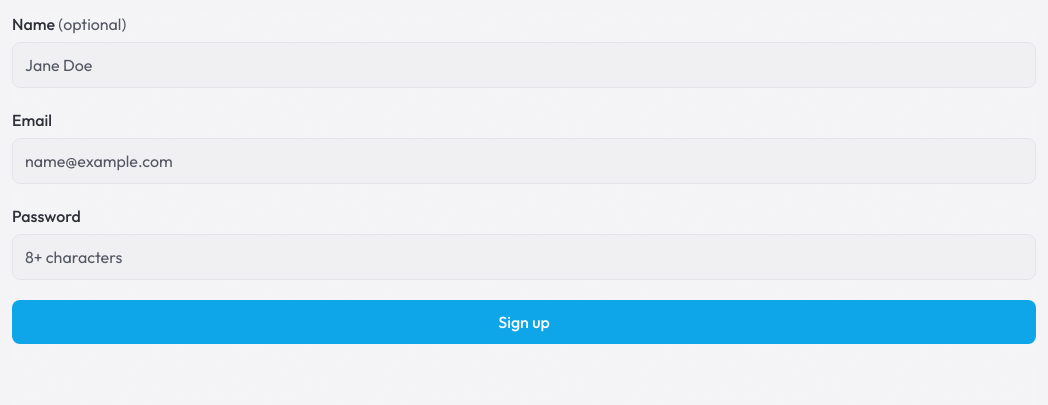
Scenario: SignupForm › validation › shows email validation error when submitting with no email
The width and height of the screenshot is (1048, 405).
Click the button "Sign up": click(524, 322) [12,300,1036,344]
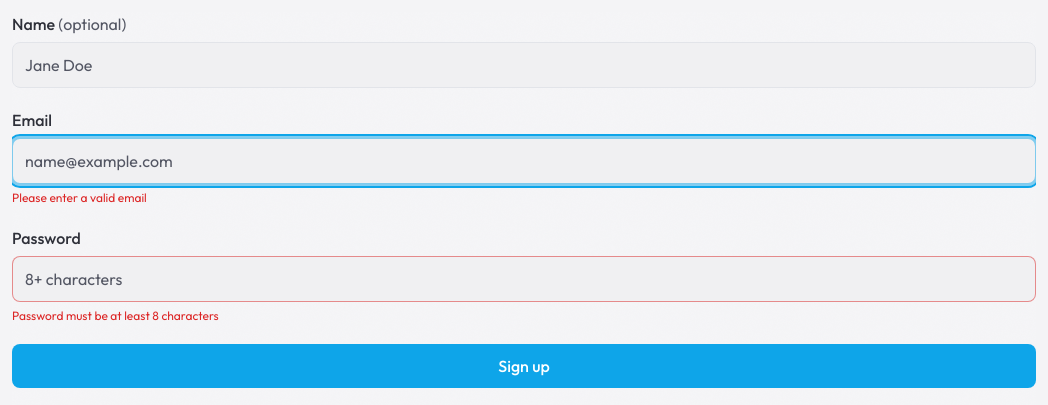
Expected: the text "Please enter a valid email" is shown, [12,190,147,205]
